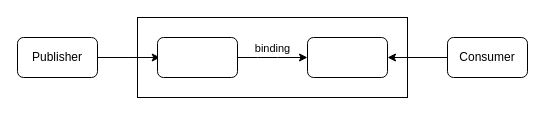
This 545x115 diagram has some shape labels left out. Each missing label, with the centre of its shape:
Exchange: point 197,57
Queue: point 347,57
